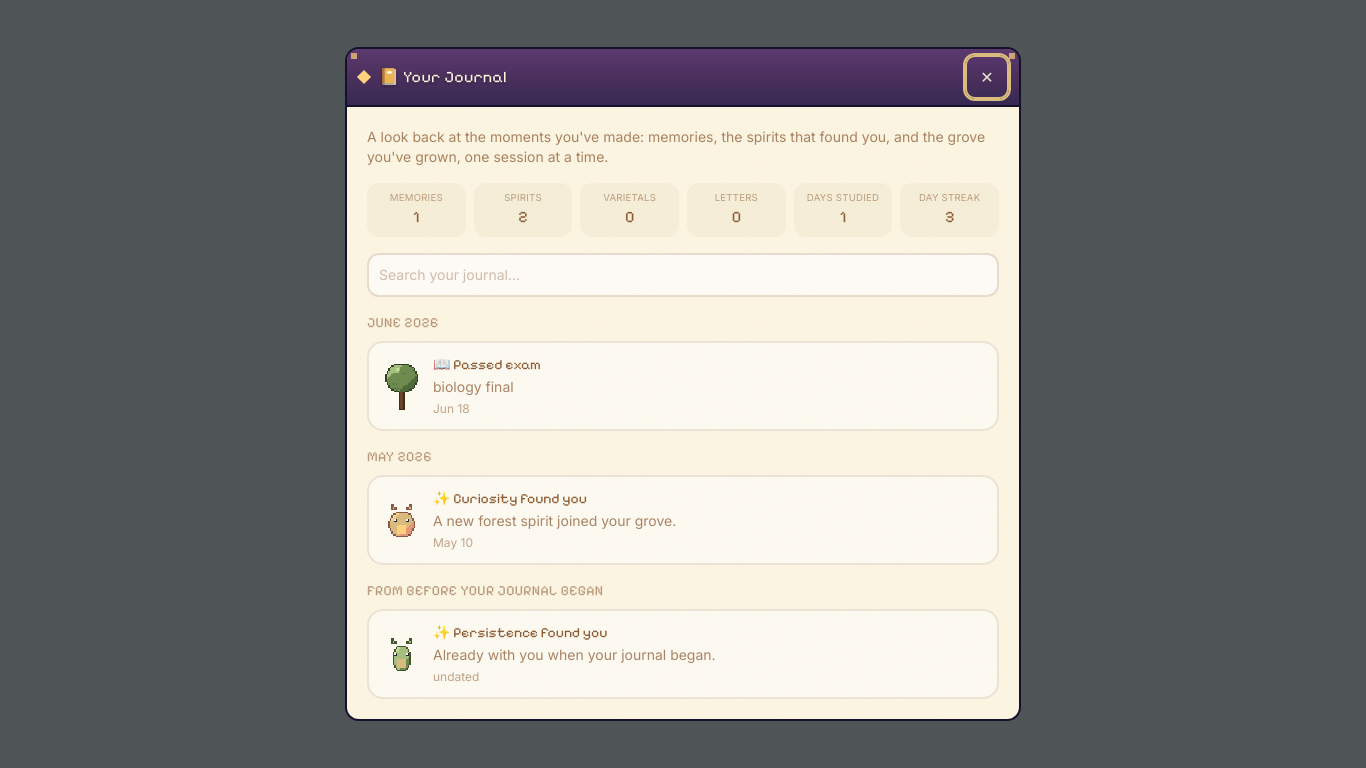
it: Journal › filters entries by search and updates the live count
Type "exam" into the field labelled "Search your journal…" at (683, 275), box [367,253,999,297]
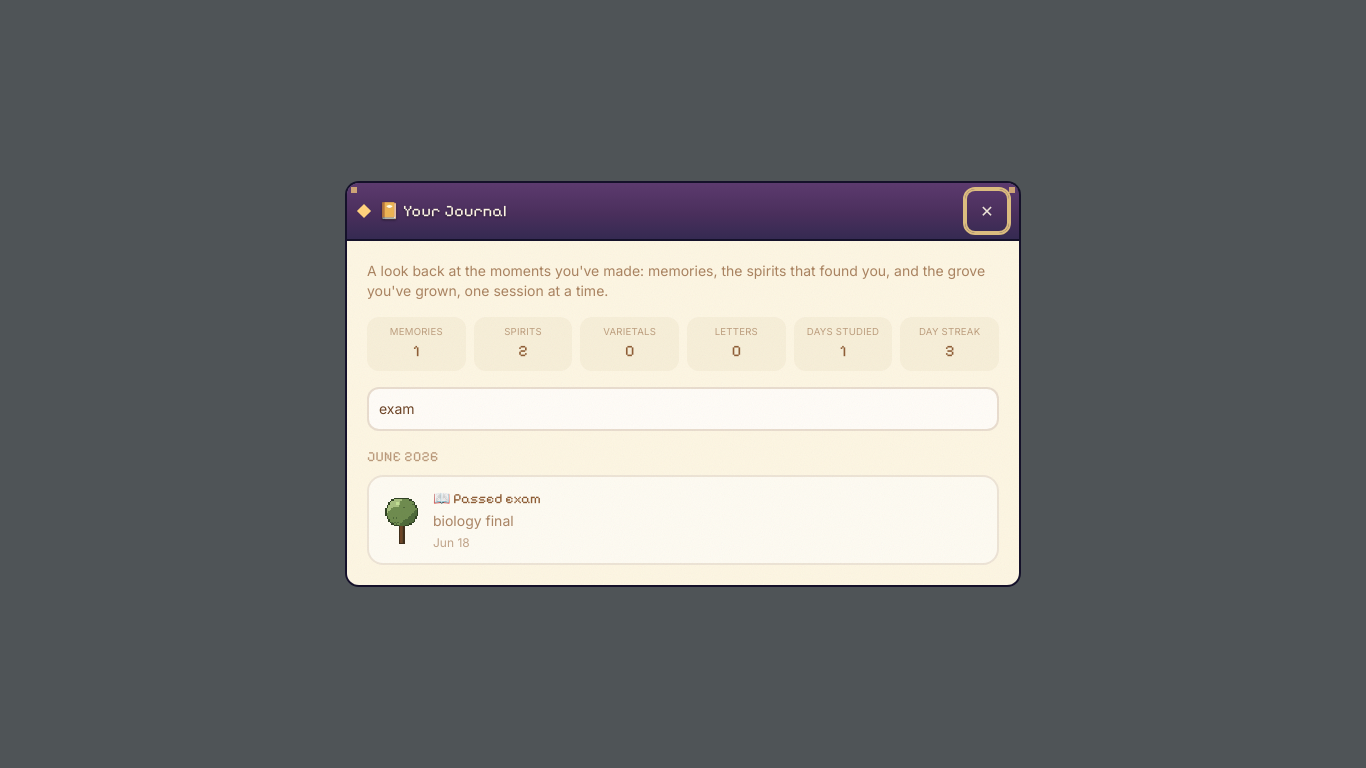
Expected: the text "Passed exam" is shown, [453,490,541,507]
Replace the text in the field named "Search your journal" with "zzzzz" at (683, 409), box [367,387,999,431]
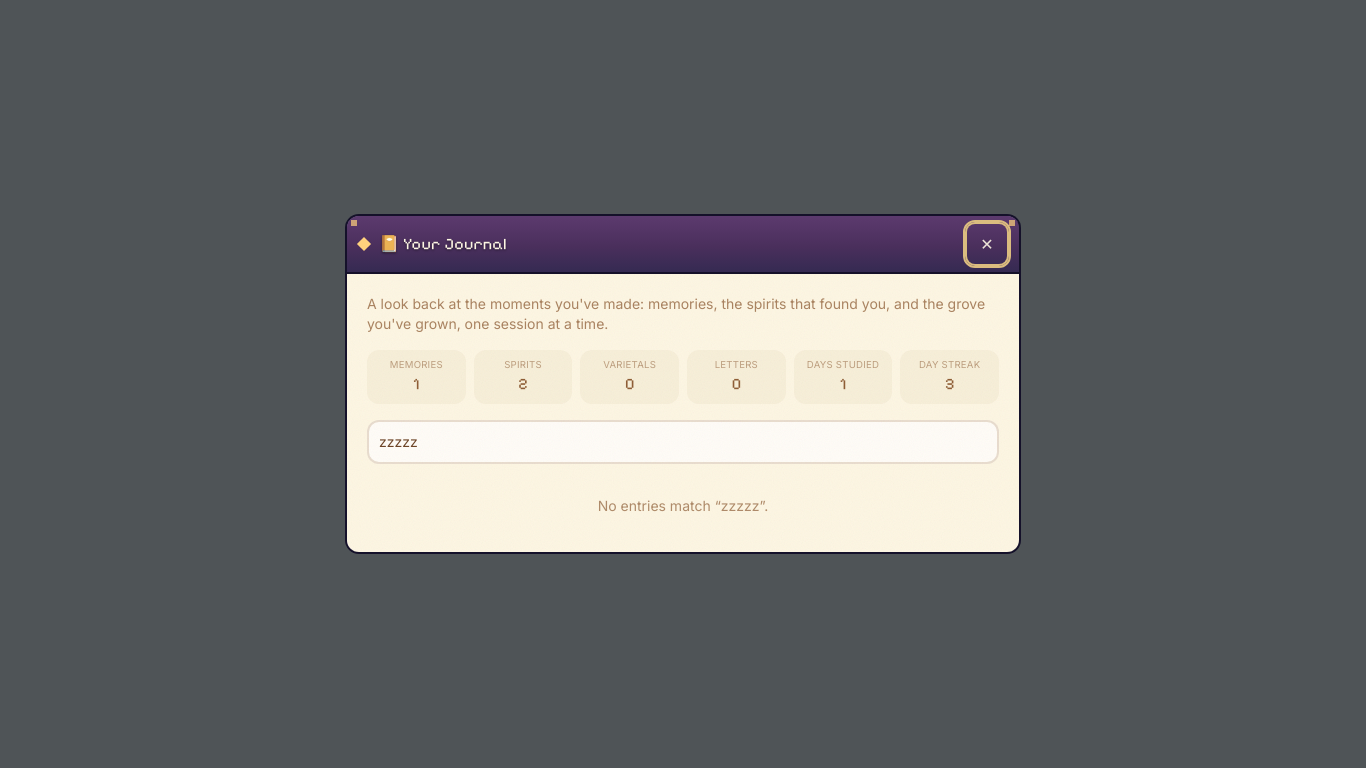
Expected: the text "No entries match “zzzzz”." is shown, [598,497,768,514]
